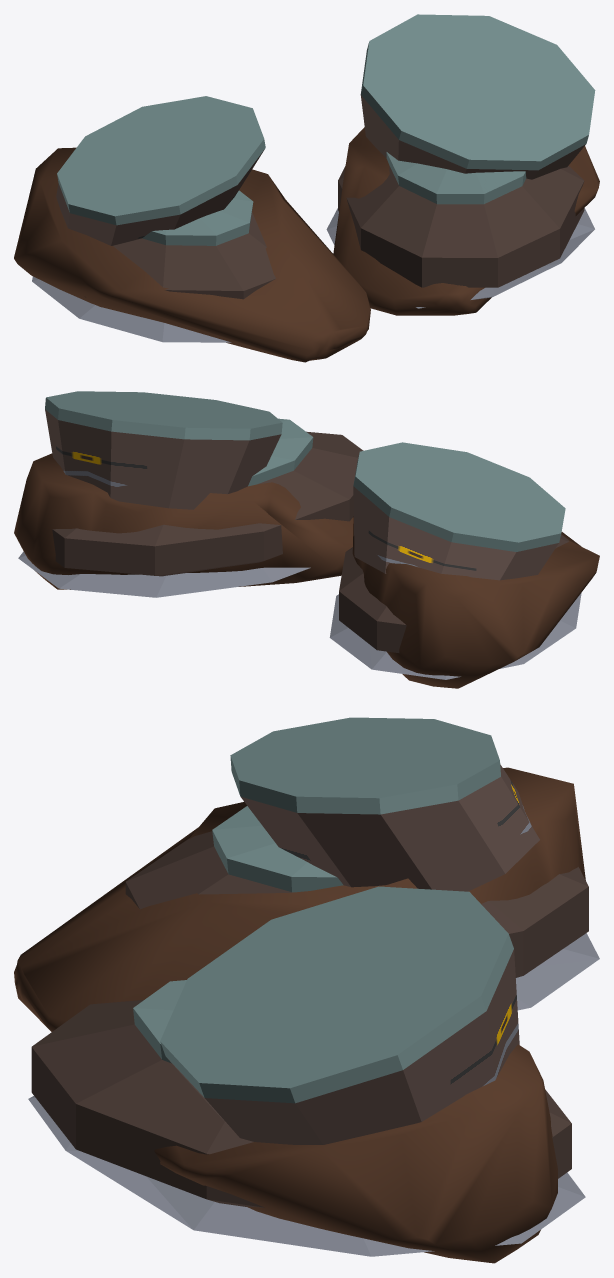
Rendered from side_step_boots_3.glb.
3 views of the same model, one above another, from view 1: azimuth 30°, elevation 25°; view 2: azimuth 150°, elevation 25°; view 3: azimuth 270°, elevation 25° (orthographic). The views are drawn at different scales.
Visible parts, largest first — view 1: wear_side_step_boots_3_05_display, wear_side_step_boots_3_02_display, wear_side_step_boots_3_01_display, wear_side_step_boots_3_04_display, wear_side_step_boots_3_00_display, wear_side_step_boots_3_03_display; view 2: wear_side_step_boots_3_01_display, wear_side_step_boots_3_02_display, wear_side_step_boots_3_03_display, wear_side_step_boots_3_04_display, wear_side_step_boots_3_00_display, wear_side_step_boots_3_05_display; view 3: wear_side_step_boots_3_05_display, wear_side_step_boots_3_01_display, wear_side_step_boots_3_03_display, wear_side_step_boots_3_00_display, wear_side_step_boots_3_02_display, wear_side_step_boots_3_04_display.
Part boxes in pixels (<box>): wear_side_step_boots_3_05_display: <box>360,14,595,204</box>; wear_side_step_boots_3_02_display: <box>14,147,370,362</box>; wear_side_step_boots_3_01_display: <box>326,95,594,308</box>; wear_side_step_boots_3_04_display: <box>57,96,265,245</box>; wear_side_step_boots_3_00_display: <box>32,149,275,342</box>; wear_side_step_boots_3_03_display: <box>333,127,599,315</box>; wear_side_step_boots_3_01_display: <box>18,409,363,597</box>; wear_side_step_boots_3_02_display: <box>352,516,599,688</box>; wear_side_step_boots_3_03_display: <box>14,453,353,589</box>; wear_side_step_boots_3_04_display: <box>353,442,565,551</box>; wear_side_step_boots_3_00_display: <box>329,486,581,679</box>; wear_side_step_boots_3_05_display: <box>45,391,313,486</box>; wear_side_step_boots_3_05_display: <box>133,886,513,1103</box>; wear_side_step_boots_3_01_display: <box>28,949,585,1256</box>; wear_side_step_boots_3_03_display: <box>154,1044,557,1263</box>; wear_side_step_boots_3_00_display: <box>125,764,599,1010</box>; wear_side_step_boots_3_02_display: <box>14,767,585,1031</box>; wear_side_step_boots_3_04_display: <box>212,717,500,892</box>.
Size of the model in its own units: 1.29 by 0.409 by 0.807.
7 materials, 2 textured.
